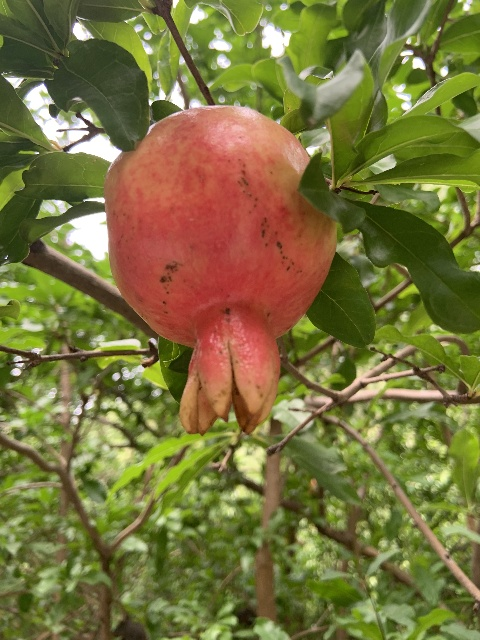ripe: (106, 107, 336, 436)
